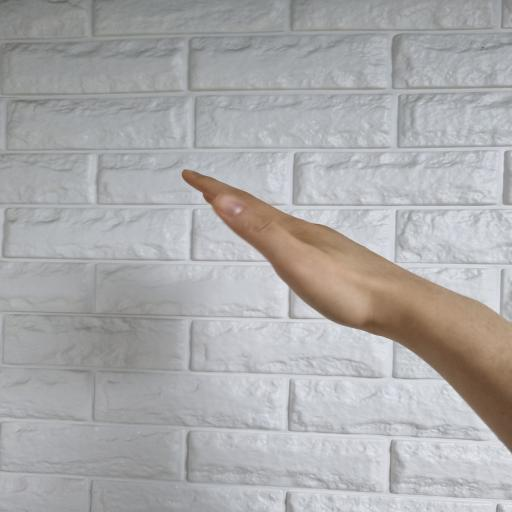Paper: (176, 168, 428, 334)
